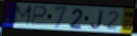2: (68, 7, 86, 30), (105, 10, 121, 31)
7: (53, 5, 69, 30)
J: (89, 9, 104, 30)
M: (11, 4, 34, 28)
P: (30, 5, 48, 27)
